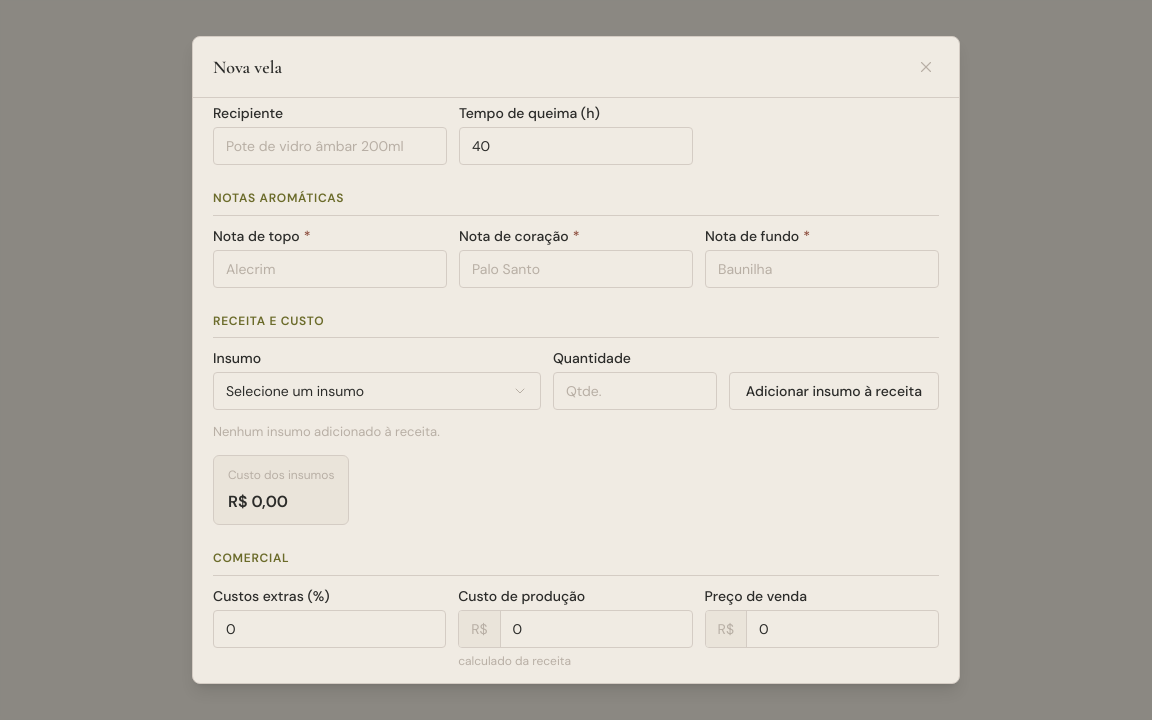
it: ModalNovoProduto — Receita e custo › caso de erro: adicionar o mesmo insumo duas vezes é impedido com aviso
This screenshot has width=1152, height=720.
(page scrolled)
Select "Cera de soja (g)" in the dropdown labelled "Insumo" at (377, 391), box [213,372,541,410]
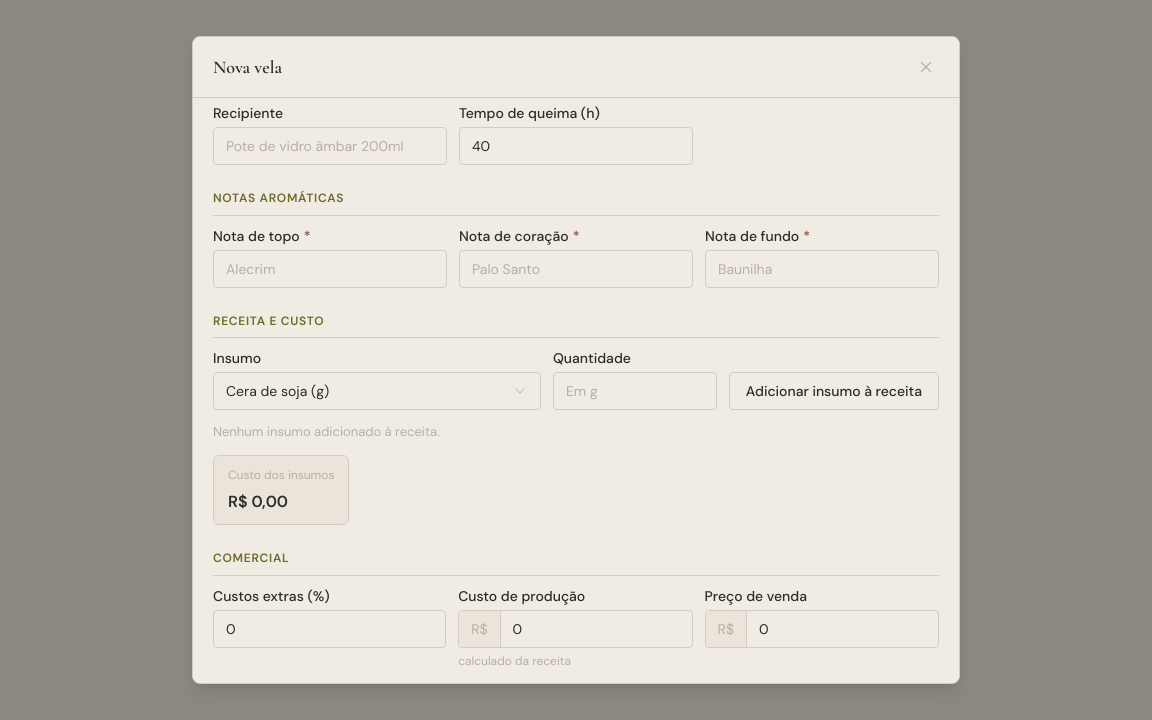
Type "50" into the number field labelled "Quantidade" at (635, 391), box [553,372,717,410]
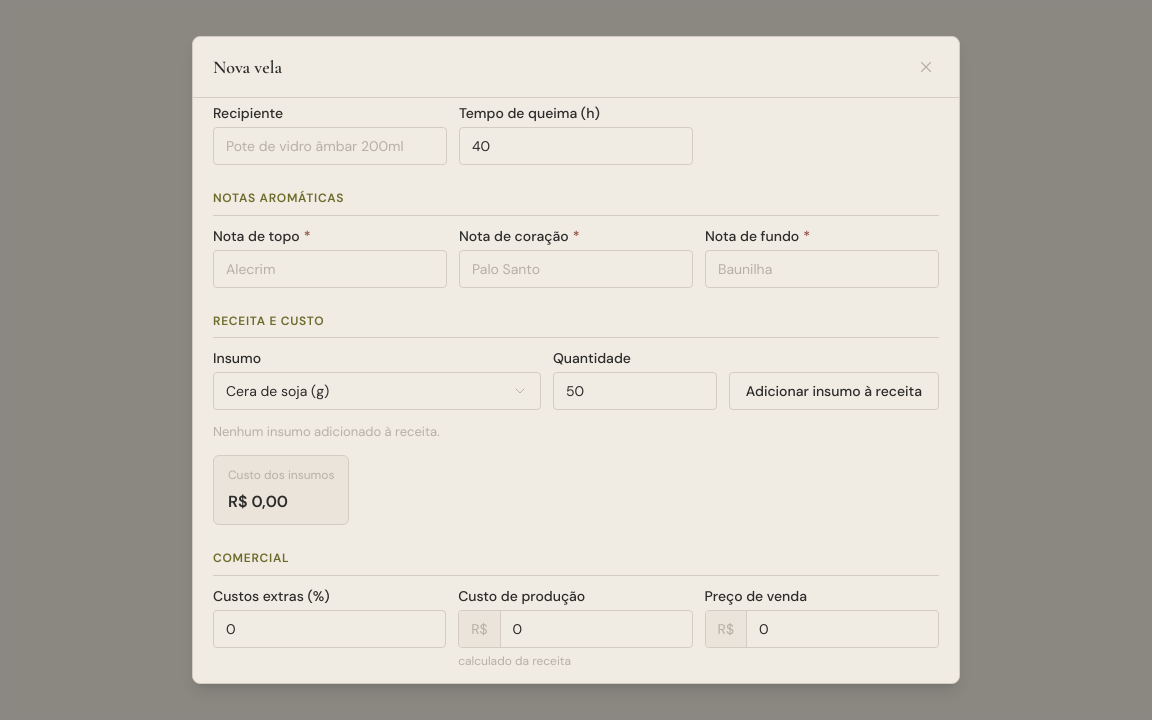
Click the button "Adicionar insumo à receita" at (834, 391), box [729,372,939,410]
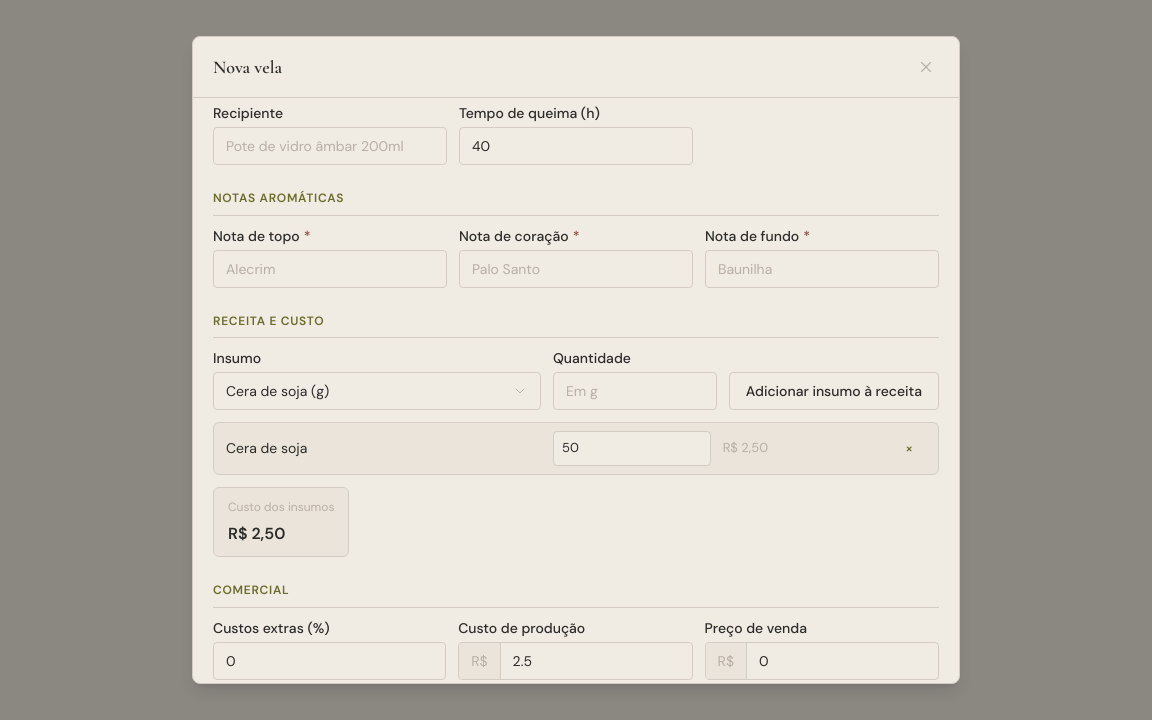
Select "Cera de soja (g)" in the dropdown labelled "Insumo" at (377, 391), box [213,372,541,410]
Type "20" into the number field labelled "Quantidade" at (635, 391), box [553,372,717,410]
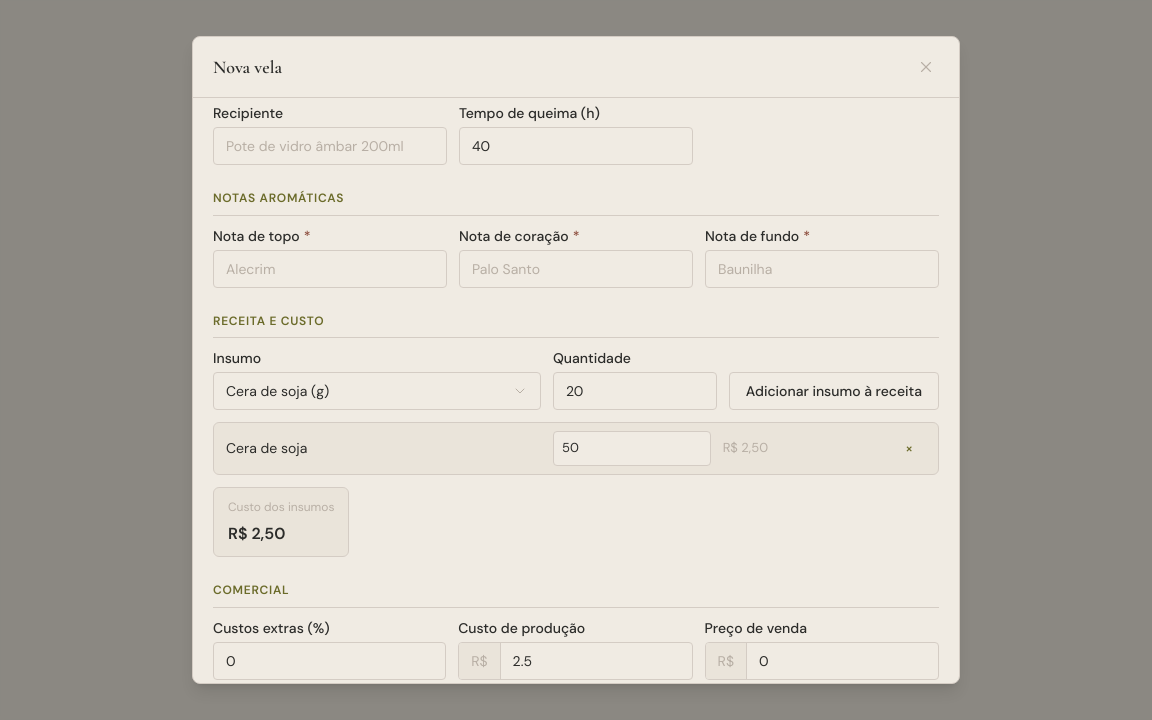
Click the button "Adicionar insumo à receita" at (834, 391), box [729,372,939,410]
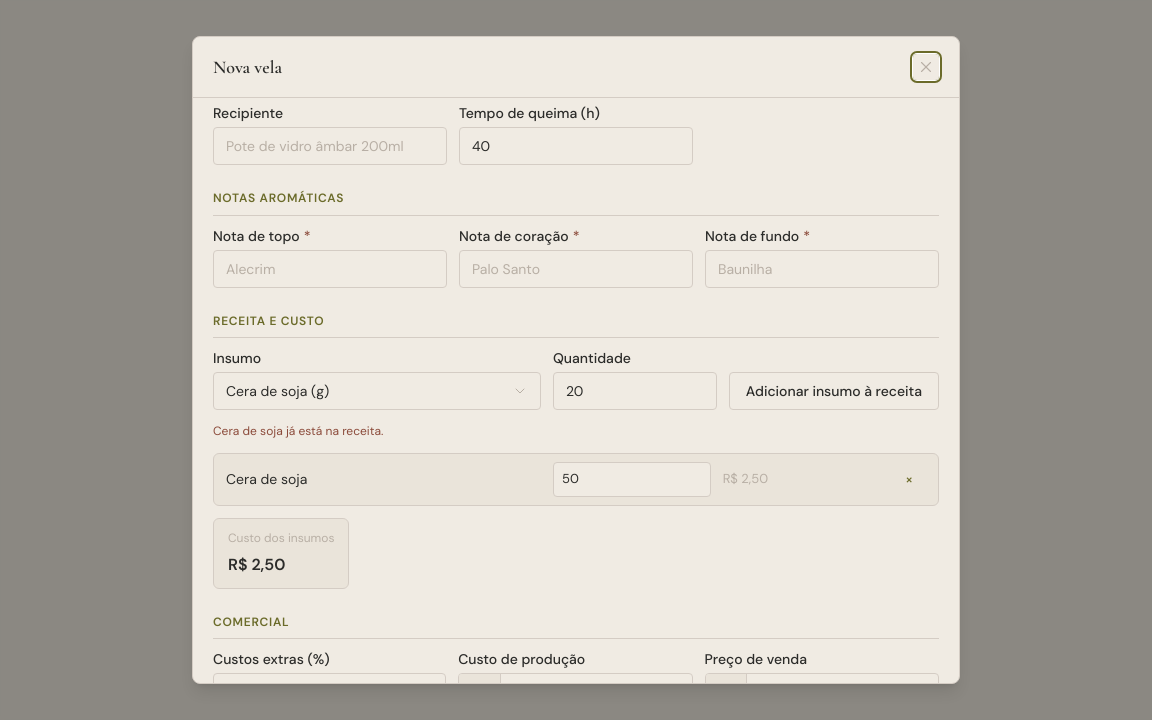
Check: the number of number fields named "quantidade de cera de soja na receita" is 1, box [553,462,711,497]
Check: the text "Cera de soja já está na receita." is shown, box [213,423,383,439]
